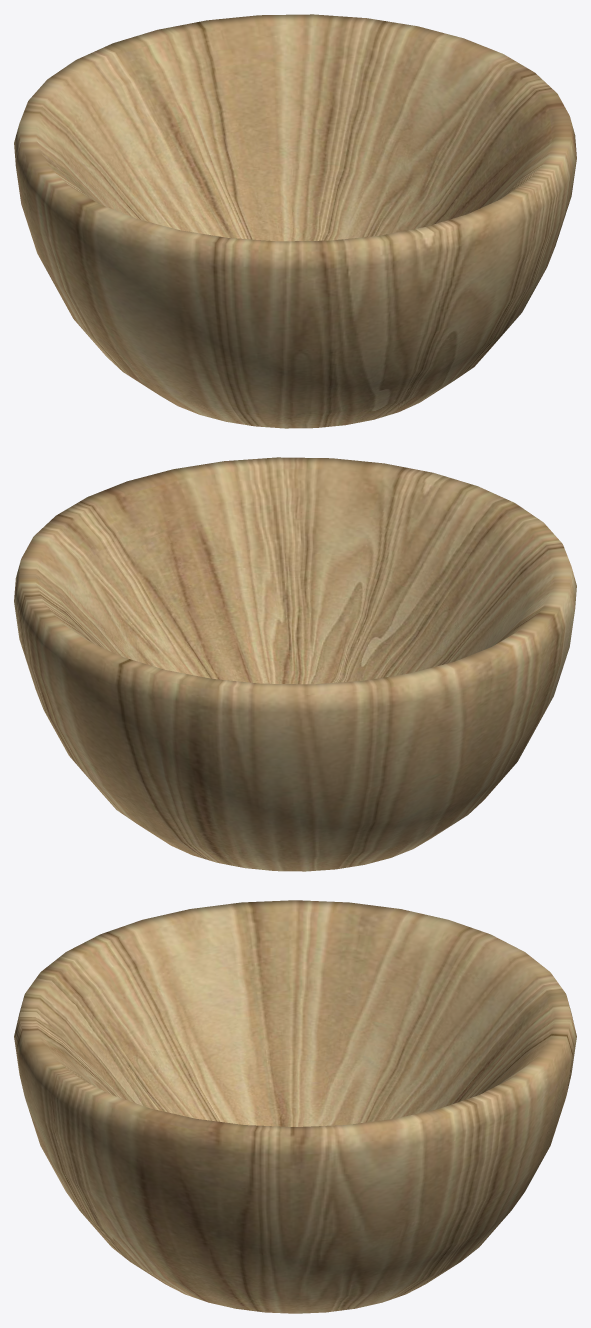
Rendered from bowl.obj.
3 renders of one model, top to bottom at view 1: azimuth 30°, elevation 25°; view 2: azimuth 150°, elevation 25°; view 3: azimuth 270°, elevation 25°, orthographic.
Parts seen in each view (by area): view 1: Sphere001; view 2: Sphere001; view 3: Sphere001.
Part boxes in pixels (bbox=[...]): Sphere001: bbox=[14, 14, 576, 428]; Sphere001: bbox=[14, 457, 576, 871]; Sphere001: bbox=[14, 900, 576, 1313].
Size of the model in its own units: 50 by 23.94 by 50.
